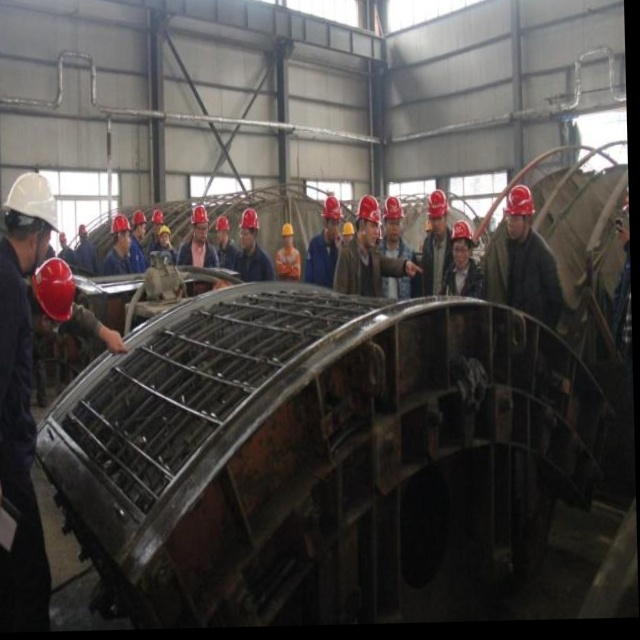Con_Casco: (6, 169, 58, 263), (31, 257, 74, 323), (503, 181, 535, 242), (355, 196, 381, 249), (425, 190, 451, 234), (237, 207, 258, 246), (190, 204, 209, 240)
